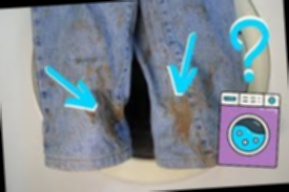earth: (171, 101, 194, 139), (104, 102, 123, 137)
